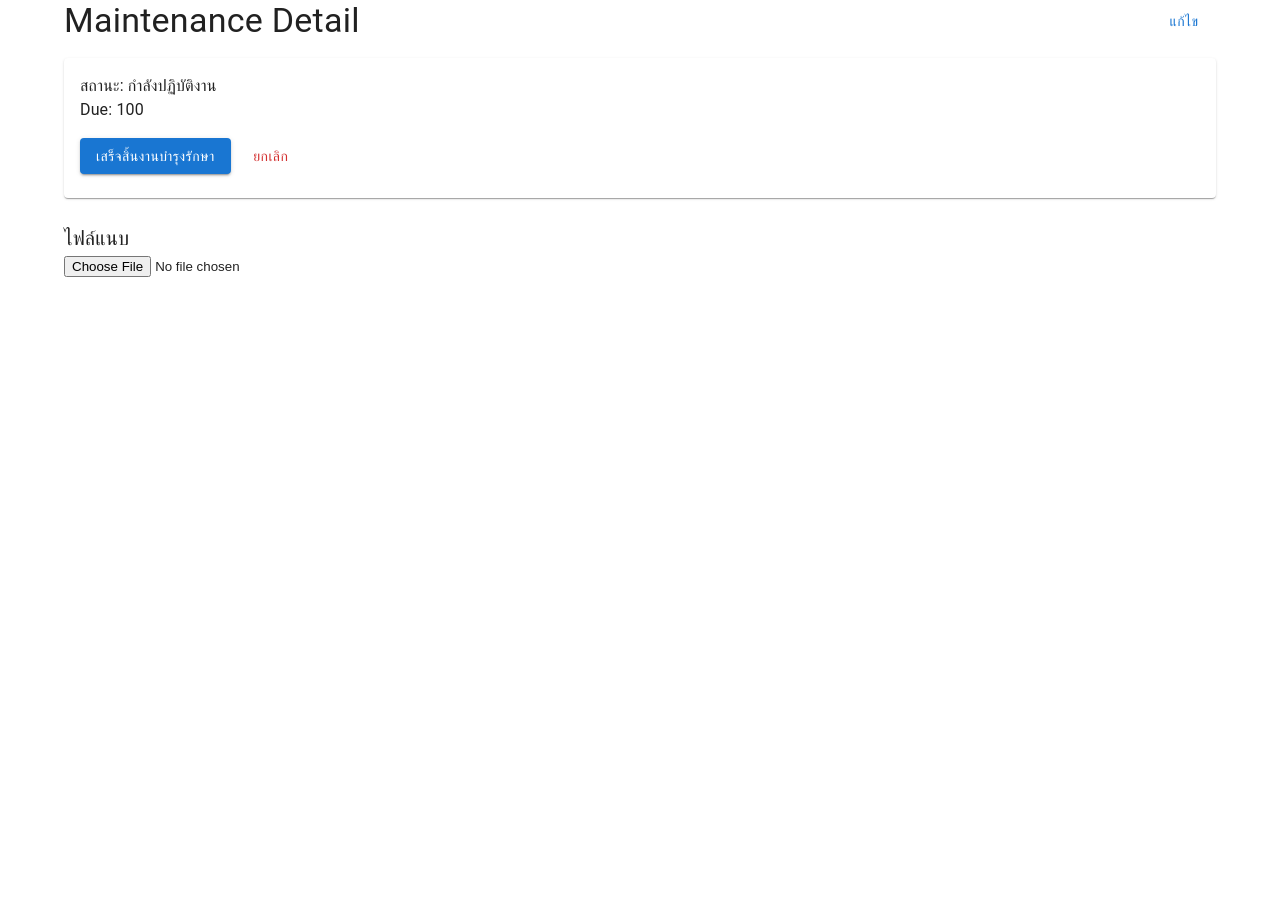
Test: Fleet maintenance UI › shows start and complete dialog
Click the button "เสร็จสิ้นงานบำรุงรักษา".
click(155, 156)  # box [80,138,231,174]
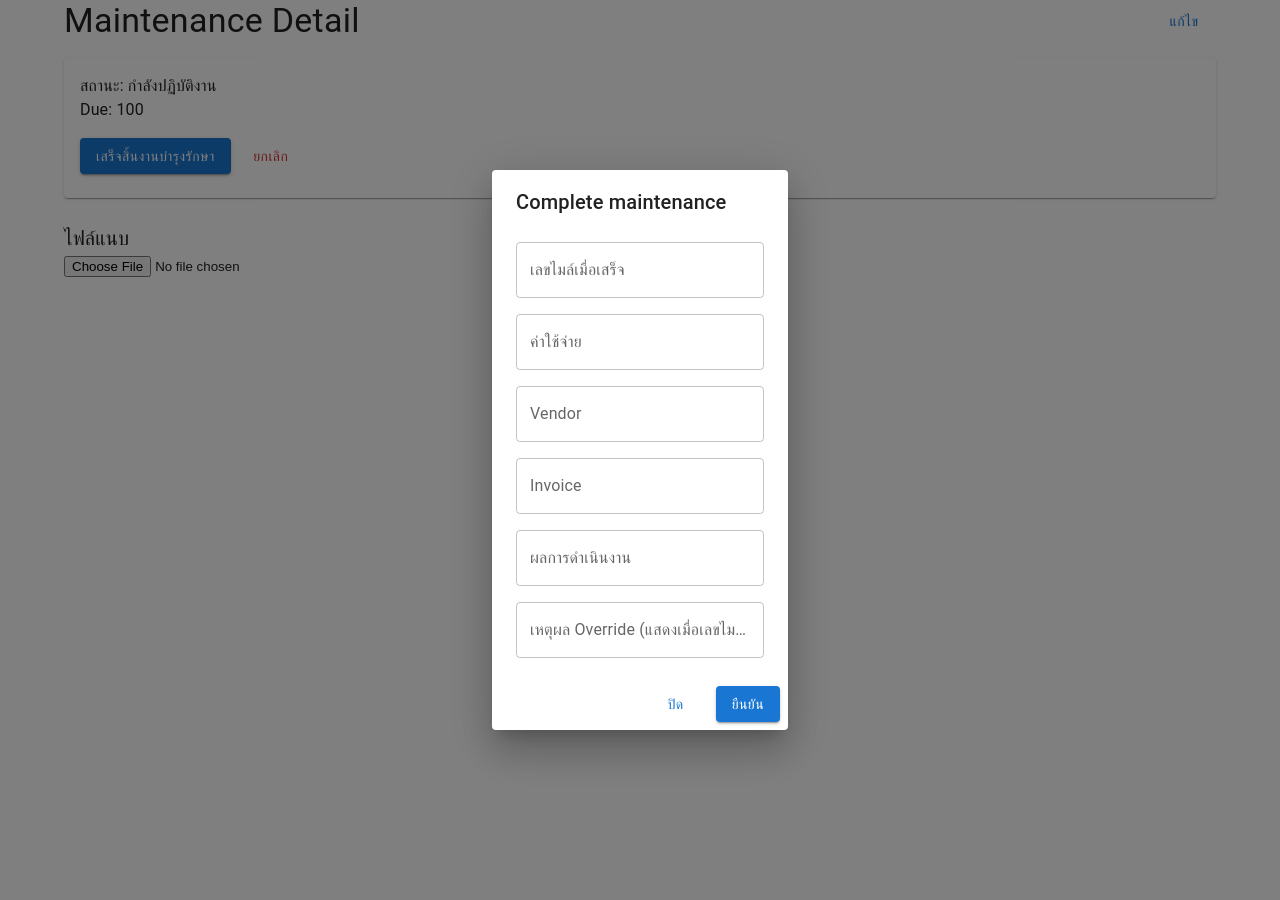
Expected: the heading "Complete maintenance" is shown, [516,190,726,214]
